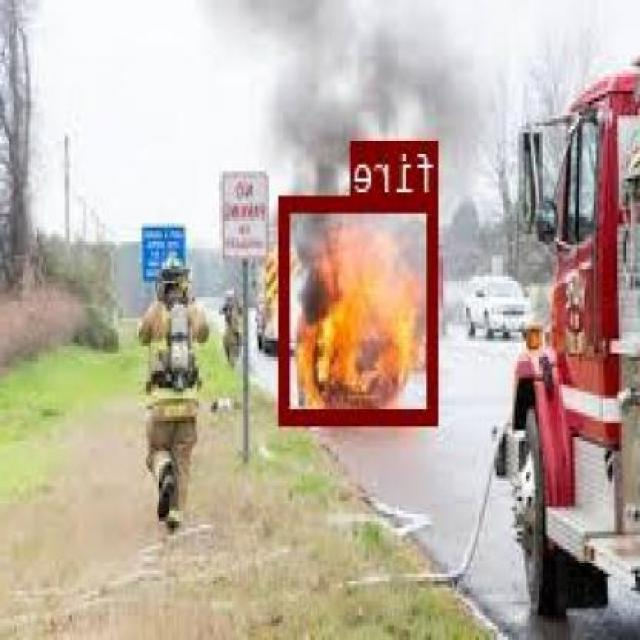Fire: (281, 195, 441, 422)
Smoke: (255, 21, 497, 136)
